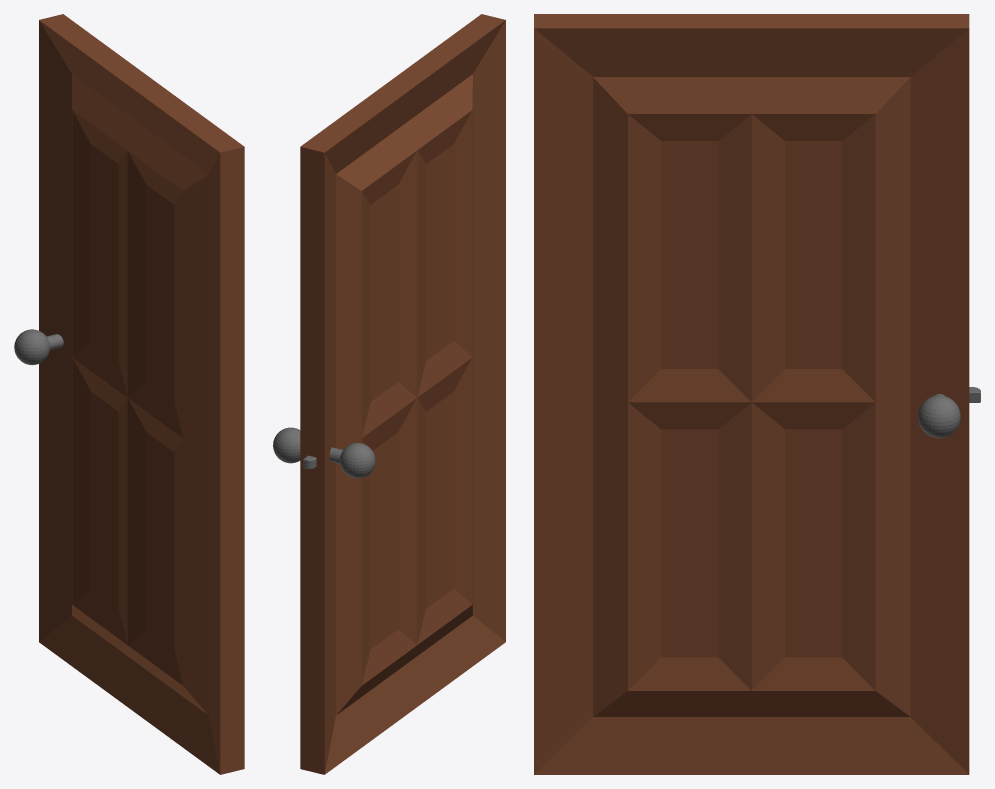
File: door 1.fbx
3 views of the same model, side by side, from view 1: azimuth 30°, elevation 25°; view 2: azimuth 150°, elevation 25°; view 3: azimuth 270°, elevation 25° (orthographic). The views are drawn at different scales.
Visible parts, largest first — view 1: Cube; view 2: Cube; view 3: Cube.
Part boxes in pixels (box(x1,y1,x2,y2)): Cube: box(14, 14, 244, 774); Cube: box(273, 14, 505, 774); Cube: box(534, 14, 980, 774).
Size of the model in its own units: 121 by 402 by 742.
